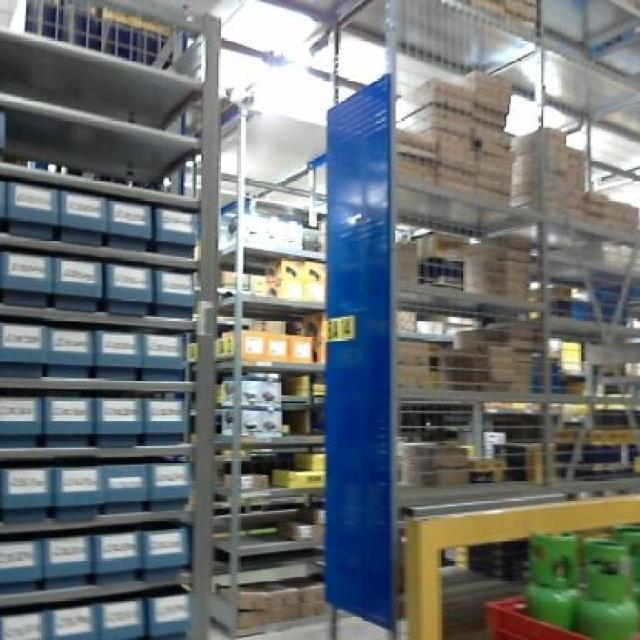pallets: (0, 160, 195, 637)
